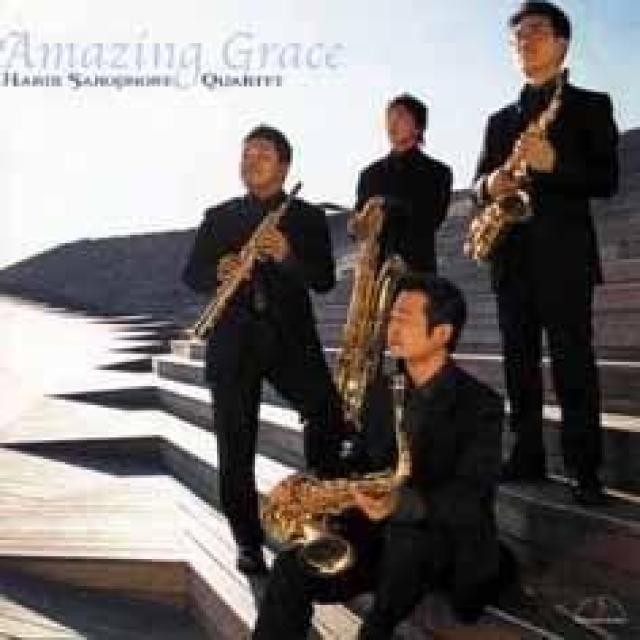saxophone: (252, 364, 426, 578), (461, 62, 570, 266), (328, 195, 409, 407)
